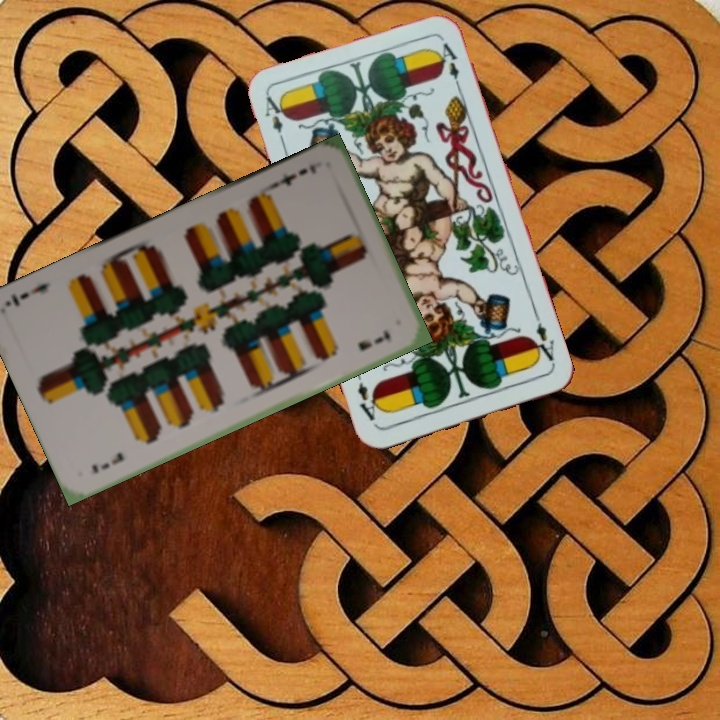E7: (268, 160, 319, 191), (87, 448, 127, 476)
EA: (527, 310, 557, 368), (260, 92, 290, 149)
